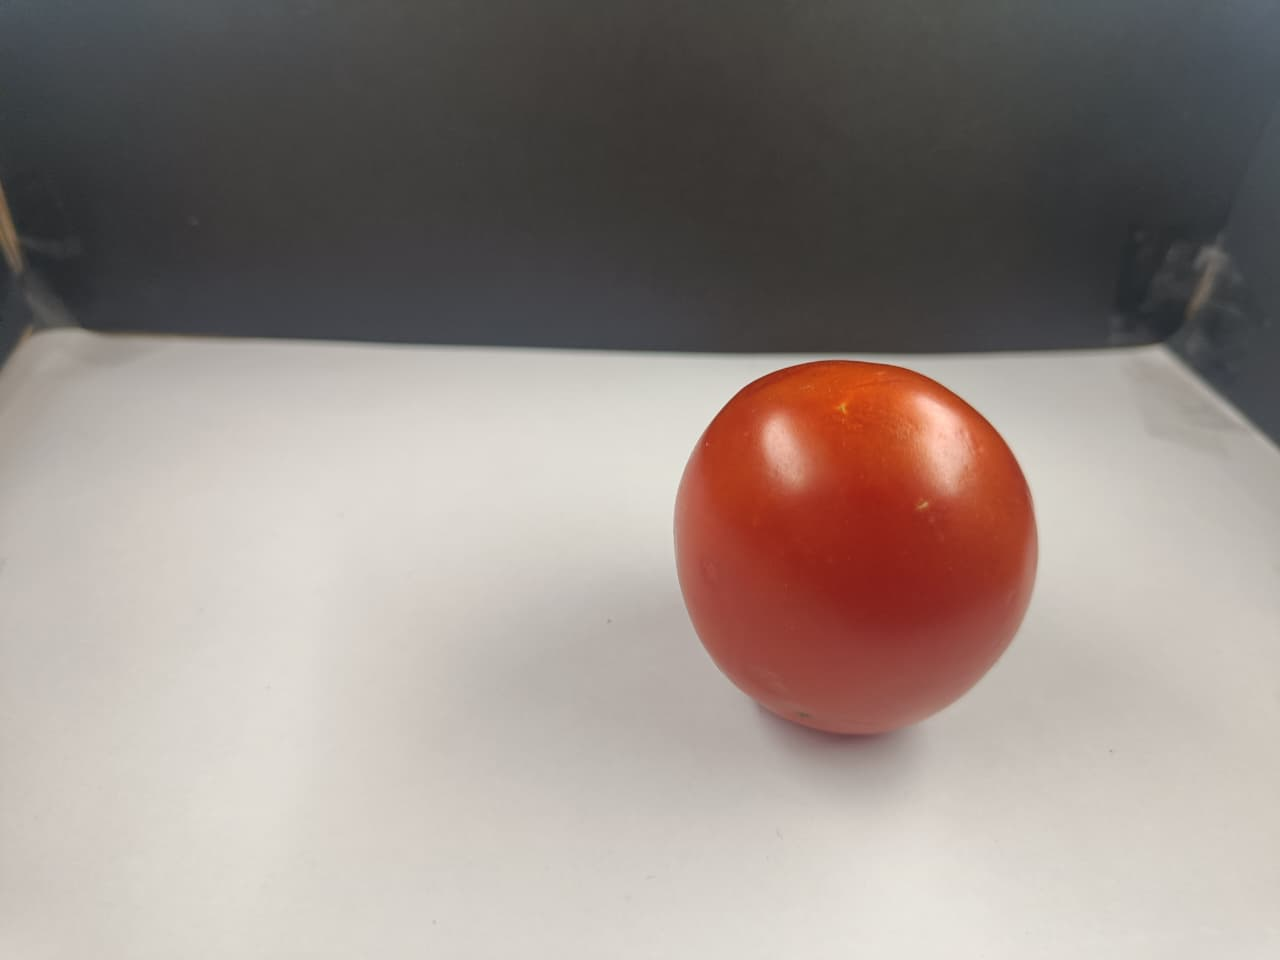ripe: (668, 363, 1039, 734)
